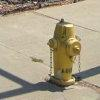a fire hydrant: (48, 22, 81, 84)
